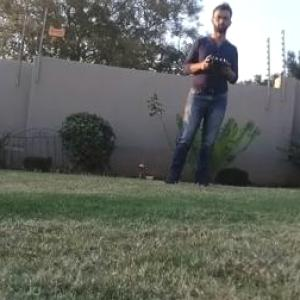follow: (156, 0, 243, 193)
